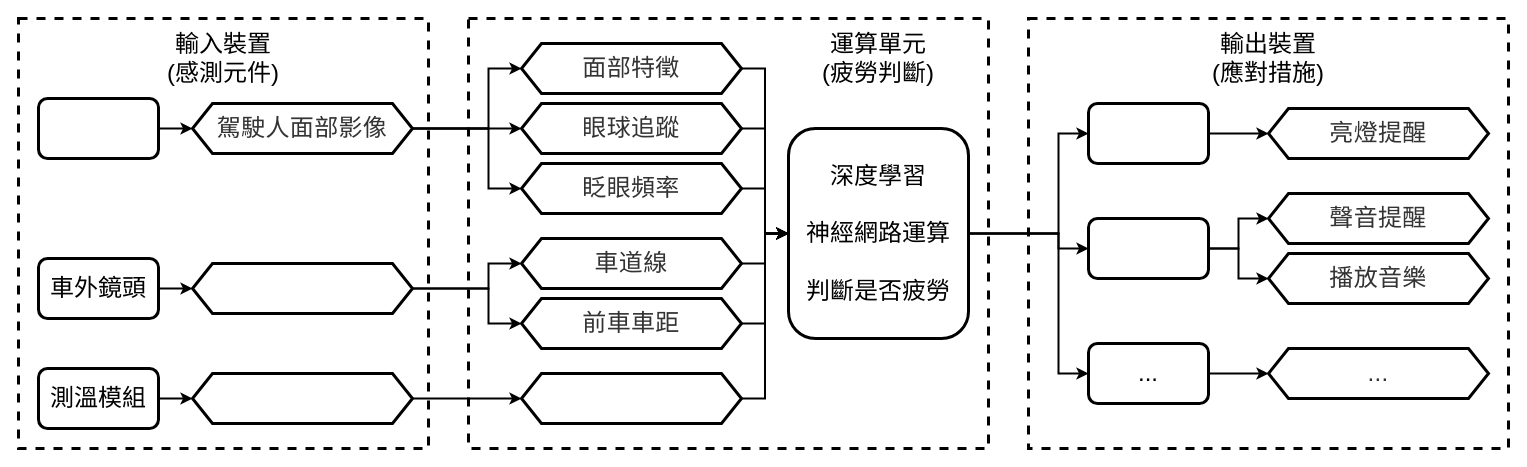
The diagram is 1527 pixels wide and 467 high, and some of its shapes have lost their labels. The centre of each missing label's shape, as x and y in pixels:
前方車道影像: point 302,288
溫度變化: point 631,398
燈光: point 1148,133
車內鏡頭: point 98,128
音響: point 1148,248
駕駛人面部溫度: point 302,398
